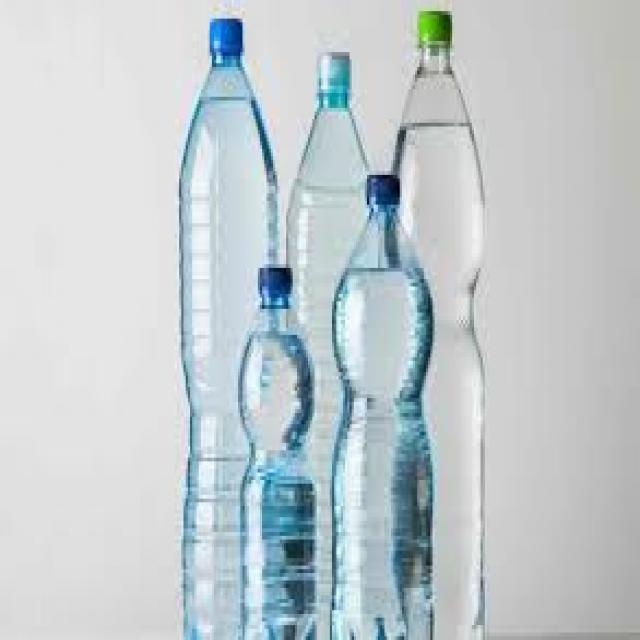Plastic: (178, 13, 280, 640), (389, 11, 484, 640), (286, 48, 376, 640), (330, 175, 434, 640), (238, 264, 314, 640)
